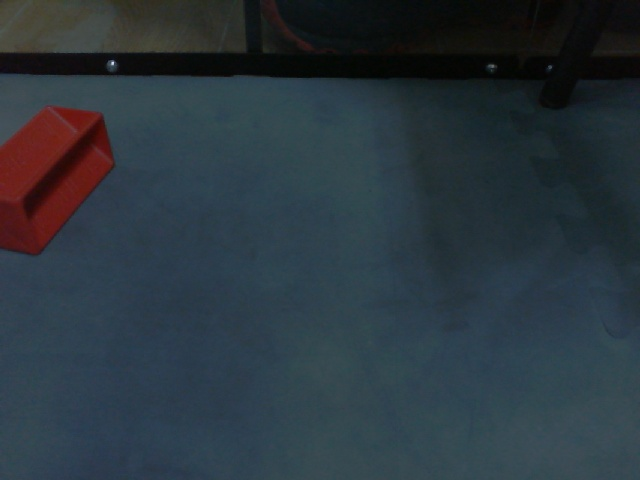RedSample: (1, 104, 118, 259)
